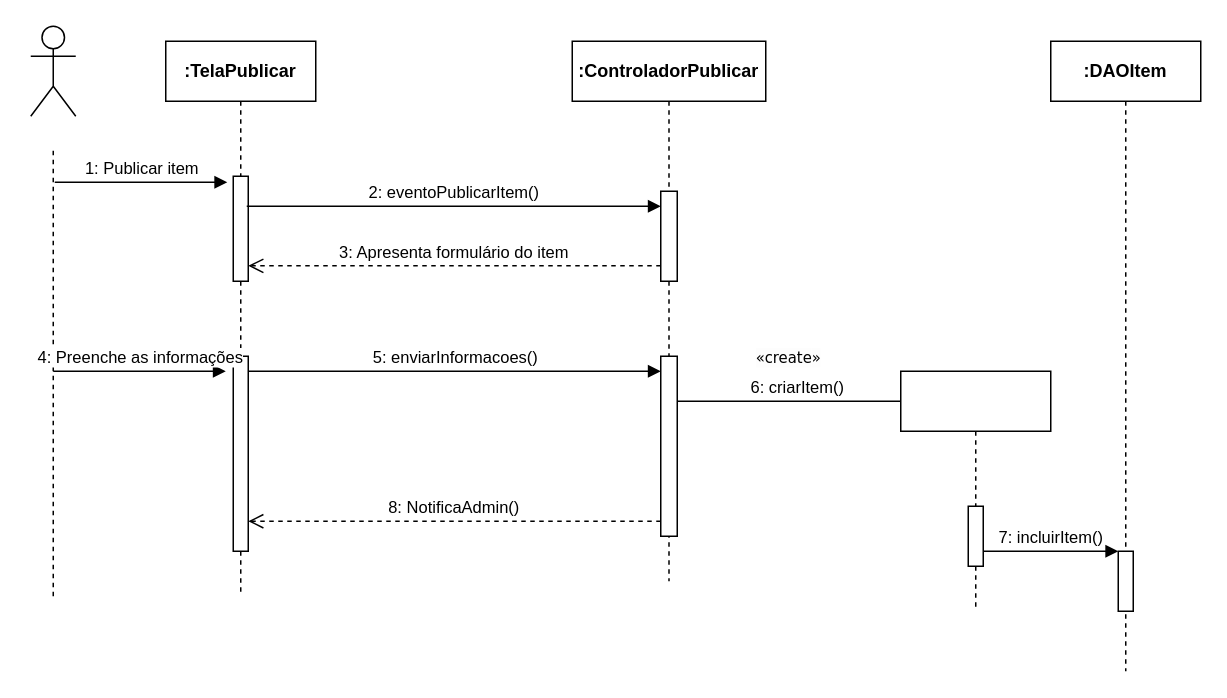
Image size: 1227x698. Some labels were removed from this diagram. Here are the shapes that lost their labels. From the top down, the centre of each, then its label:
point (52, 70): :Admin
point (975, 490): :Item
